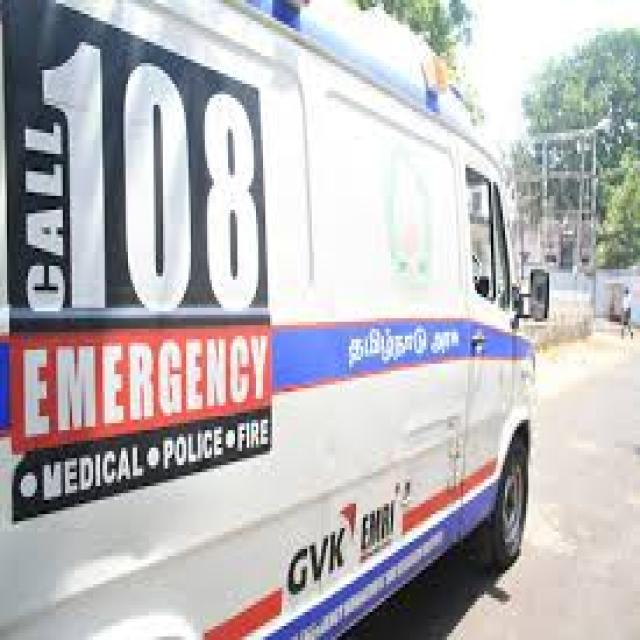Ambulance: (2, 0, 552, 640)
